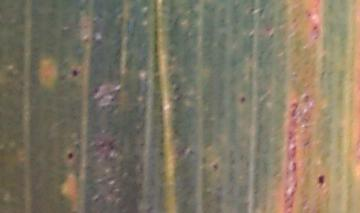tarspot: (316, 173, 326, 186), (71, 69, 79, 77), (239, 95, 247, 103), (67, 152, 74, 160), (212, 162, 219, 170)
